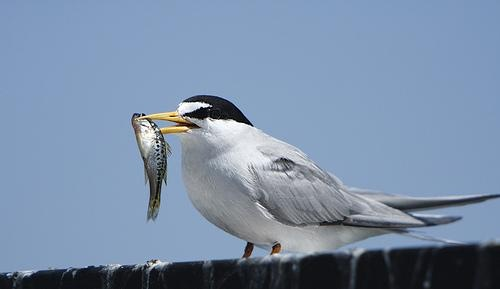bird: (143, 92, 500, 253)
